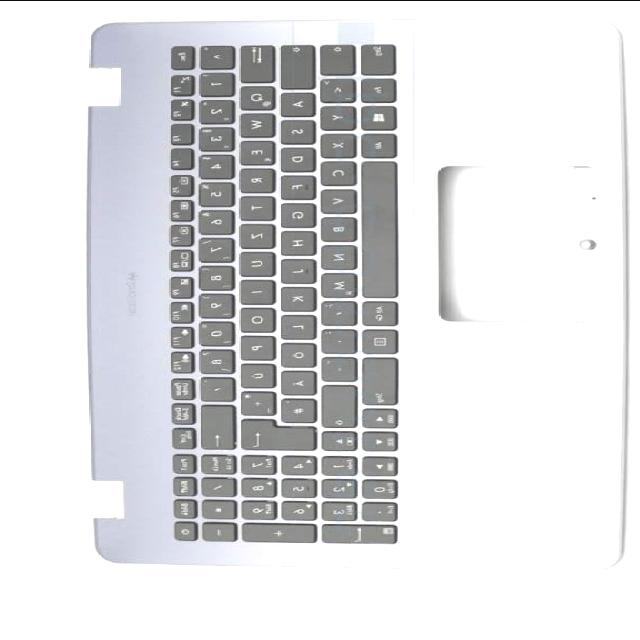0: (196, 319, 232, 345)
1: (196, 70, 232, 94)
2: (196, 97, 232, 122)
3: (196, 124, 232, 149)
4: (196, 152, 232, 177)
5: (196, 179, 232, 205)
6: (196, 207, 232, 233)
7: (195, 235, 231, 260)
8: (196, 263, 232, 289)
9: (196, 291, 232, 317)
a: (276, 90, 314, 115)
accent: (197, 375, 233, 400)
ae: (277, 368, 315, 394)
alt-left: (358, 131, 396, 157)
altgr-right: (358, 298, 397, 326)
b: (317, 214, 355, 240)
c: (317, 159, 355, 185)
caret: (196, 43, 232, 67)
comma: (318, 298, 354, 324)
d: (276, 146, 314, 171)
del: (197, 403, 233, 448)
e: (235, 139, 273, 163)
enter: (236, 416, 312, 448)
f: (277, 173, 313, 199)
g: (276, 201, 314, 227)
h: (276, 228, 315, 254)
hash: (277, 395, 315, 421)
i: (236, 278, 272, 303)
j: (276, 257, 314, 282)
k: (276, 284, 314, 310)
keyboard: (156, 35, 415, 553)
l: (277, 313, 313, 338)
less: (316, 76, 355, 102)
m: (317, 270, 355, 296)
minus: (318, 354, 354, 380)
n: (317, 242, 355, 268)
o: (236, 306, 272, 331)
oe: (277, 341, 313, 366)
p: (236, 334, 272, 359)
plus: (236, 389, 274, 414)
point: (318, 326, 354, 352)
q: (236, 84, 272, 109)
r: (236, 166, 272, 191)
s: (277, 118, 313, 143)
shift-left: (317, 41, 353, 73)
shift-lock: (276, 42, 312, 87)
shift-right: (318, 382, 354, 426)
space: (358, 159, 396, 297)
ss: (196, 347, 232, 372)
strg-left: (356, 41, 394, 74)
strg-right: (358, 355, 396, 406)
t: (236, 194, 272, 218)
tab: (236, 42, 272, 80)
u: (236, 249, 272, 275)
ue: (237, 362, 273, 387)
v: (317, 187, 355, 213)
w: (235, 111, 273, 136)
x: (317, 132, 355, 157)
y: (317, 103, 355, 129)
z: (236, 221, 272, 247)
